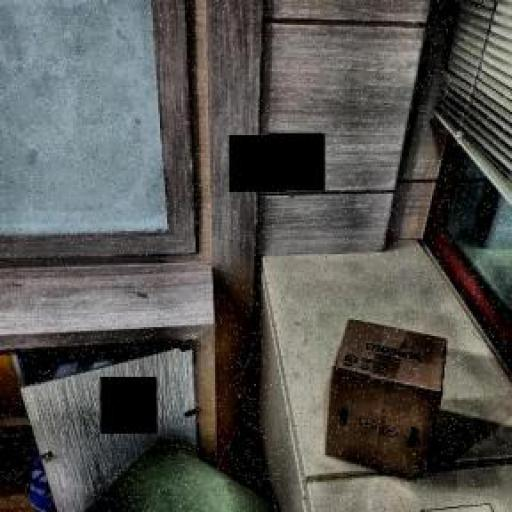box: (317, 312, 458, 493)
